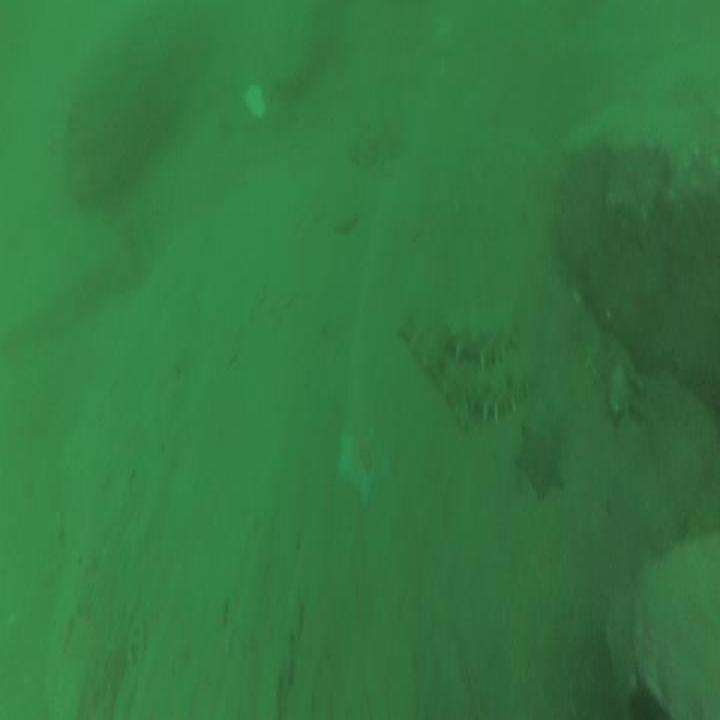holothurian: (438, 297, 527, 370), (459, 357, 545, 428)
